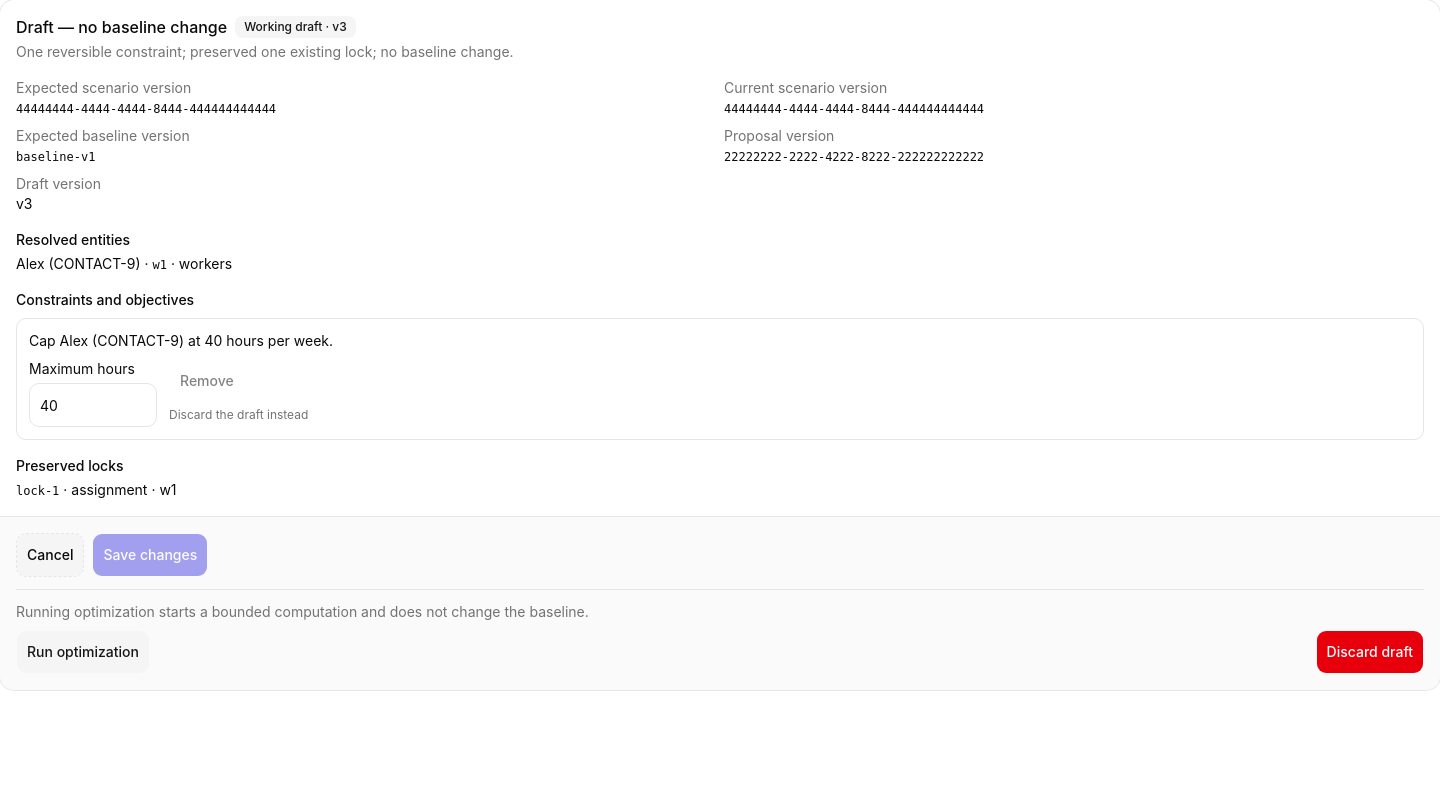
DraftCard — the working draft › Discard draft › Keep withdraws the confirmation and returns focus to Discard draft
Click the button "Discard draft" at (1370, 652), box [1316,630,1424,674]
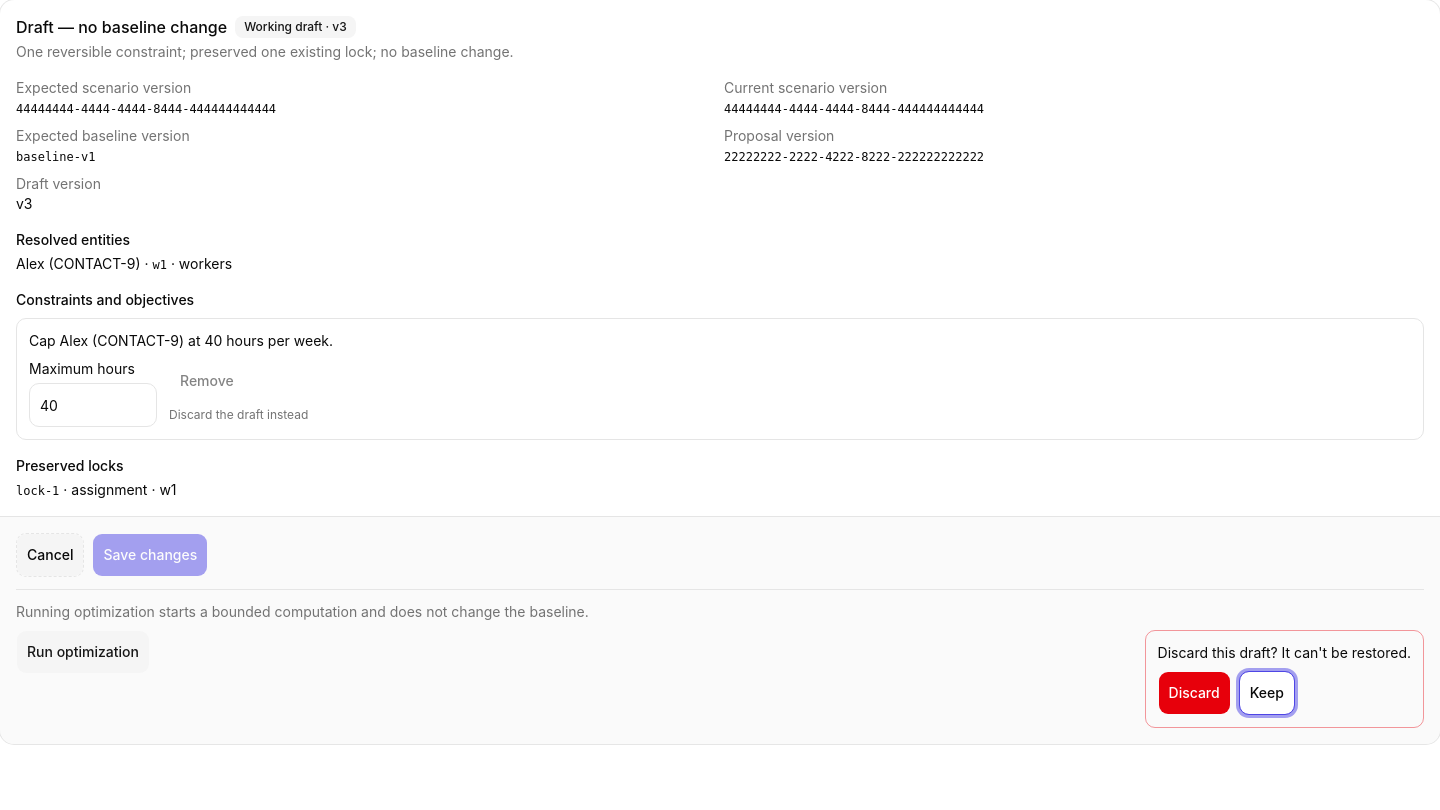
Click the button "Keep" at (1267, 693), box [1239,671,1295,715]
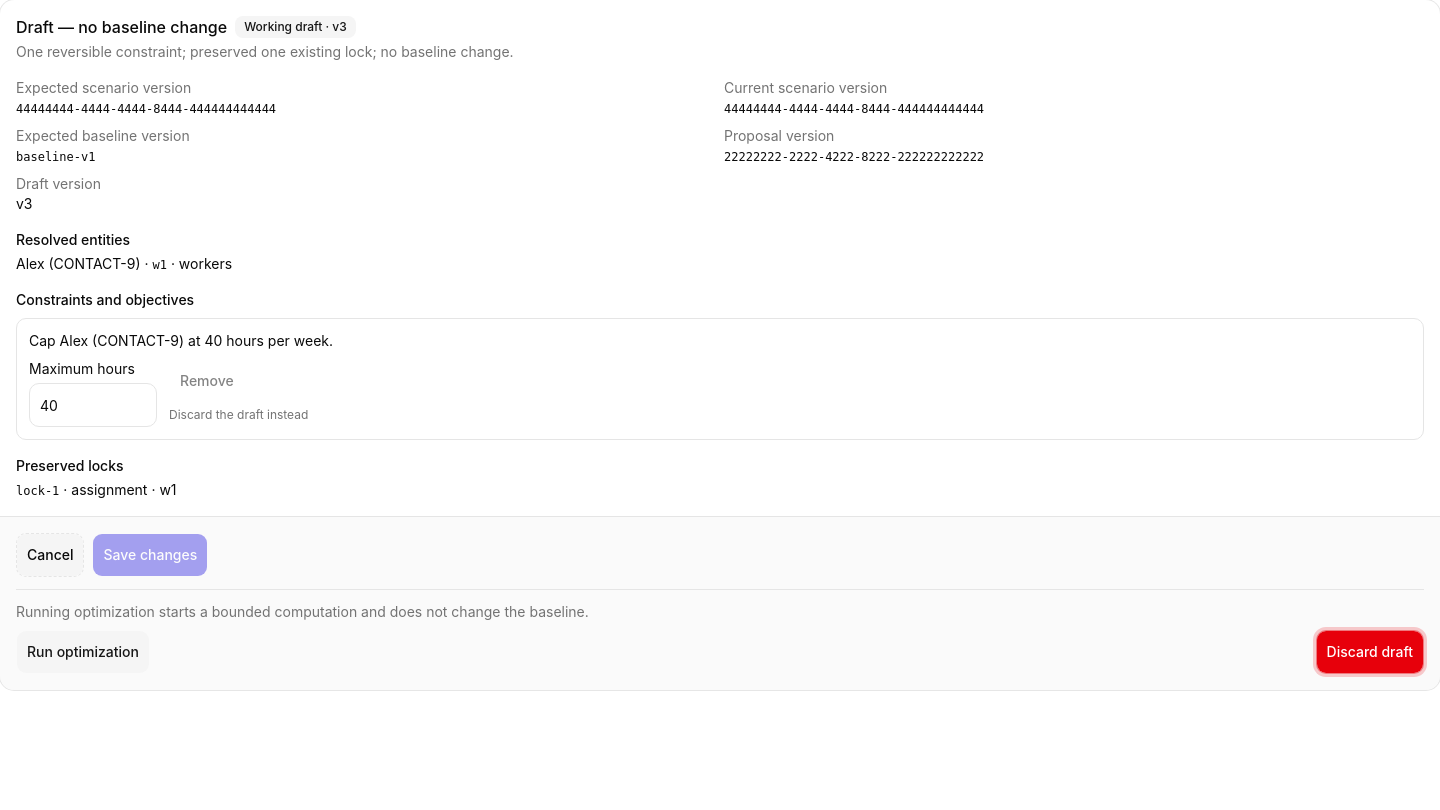
Result: the text "Discard this draft? It can't be restored." is gone
